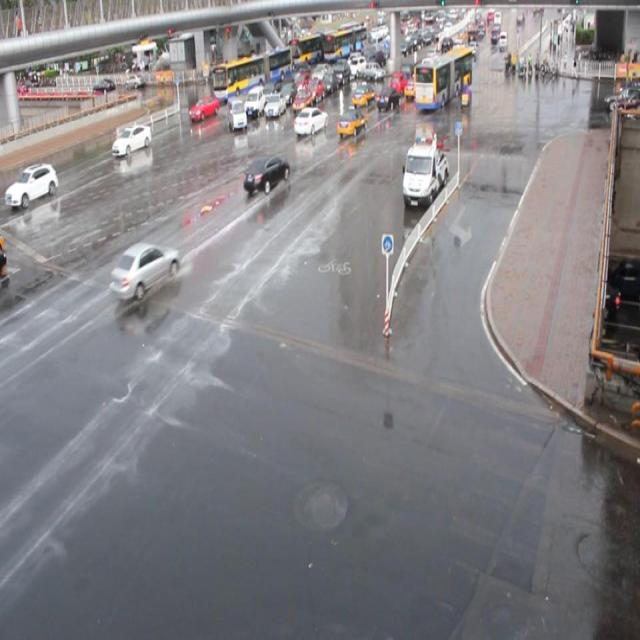bus: (402, 139, 449, 207)
car: (109, 242, 180, 298), (8, 163, 58, 208), (242, 153, 290, 194), (112, 124, 152, 156), (293, 107, 328, 136), (336, 105, 367, 137), (189, 94, 219, 121), (375, 84, 400, 110), (351, 81, 376, 106), (292, 88, 313, 115), (265, 93, 287, 118), (265, 75, 287, 98), (304, 78, 324, 102), (403, 74, 422, 98), (279, 81, 298, 104), (291, 73, 311, 94), (389, 71, 406, 95)
truck: (226, 95, 247, 131), (245, 86, 268, 118)
van: (213, 45, 291, 101), (413, 46, 472, 110)
